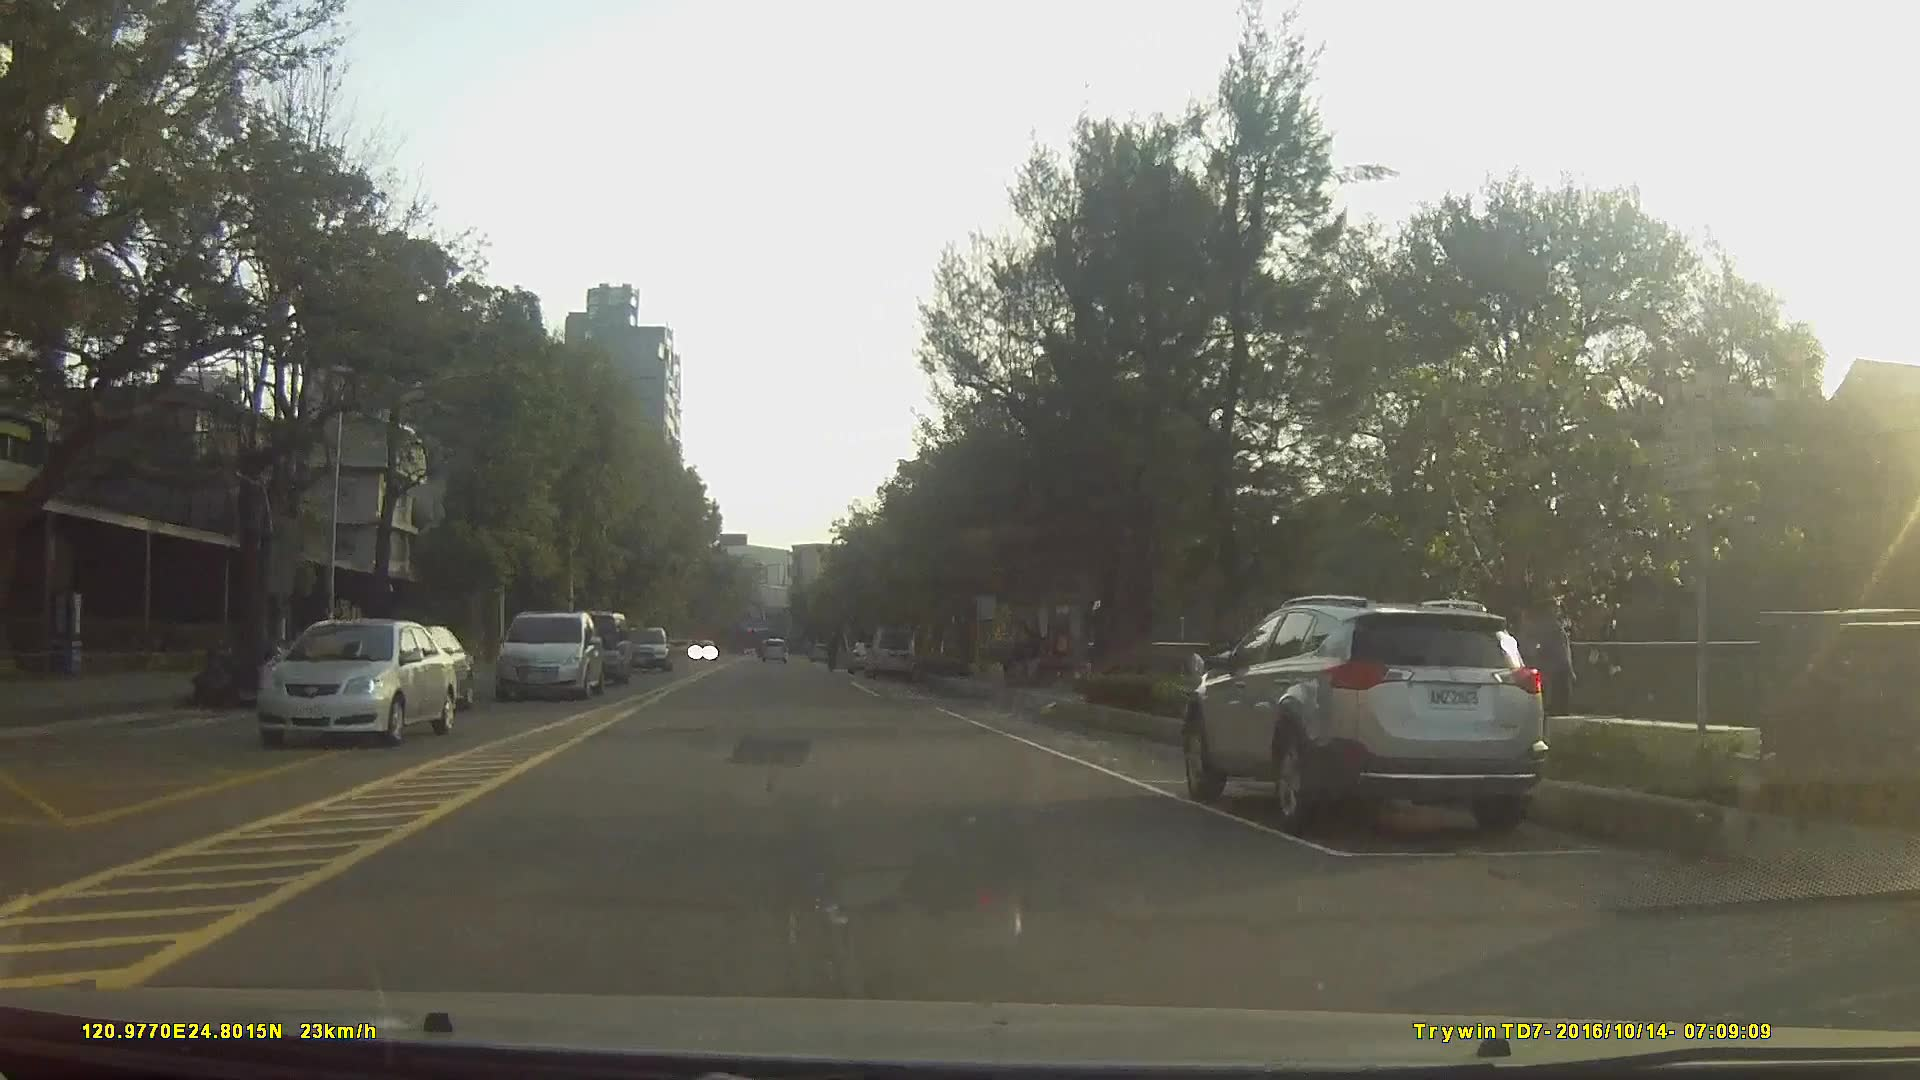vehicle: (1187, 593, 1545, 829), (255, 618, 458, 746), (495, 611, 603, 702), (860, 622, 918, 679), (617, 624, 670, 670), (844, 640, 880, 673), (760, 636, 787, 662)
